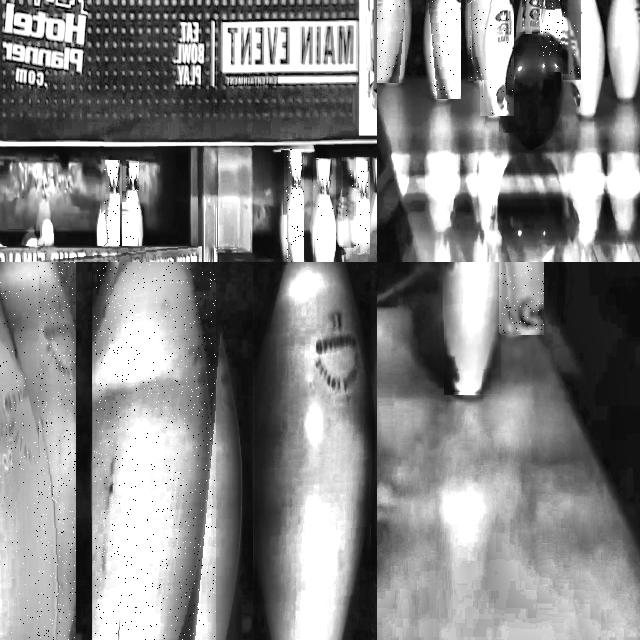bowling-ball: (499, 33, 562, 131)
bowling-pins: (94, 262, 216, 640), (256, 262, 370, 640), (445, 262, 500, 392), (569, 0, 605, 116), (482, 0, 513, 115), (607, 0, 640, 99), (430, 0, 461, 97), (505, 262, 543, 334), (313, 159, 336, 262), (377, 0, 404, 82), (286, 149, 303, 262), (540, 0, 565, 56), (470, 0, 487, 81), (355, 158, 369, 253), (104, 161, 119, 243), (565, 0, 580, 80), (125, 162, 138, 246), (345, 157, 353, 248), (523, 0, 539, 33)
